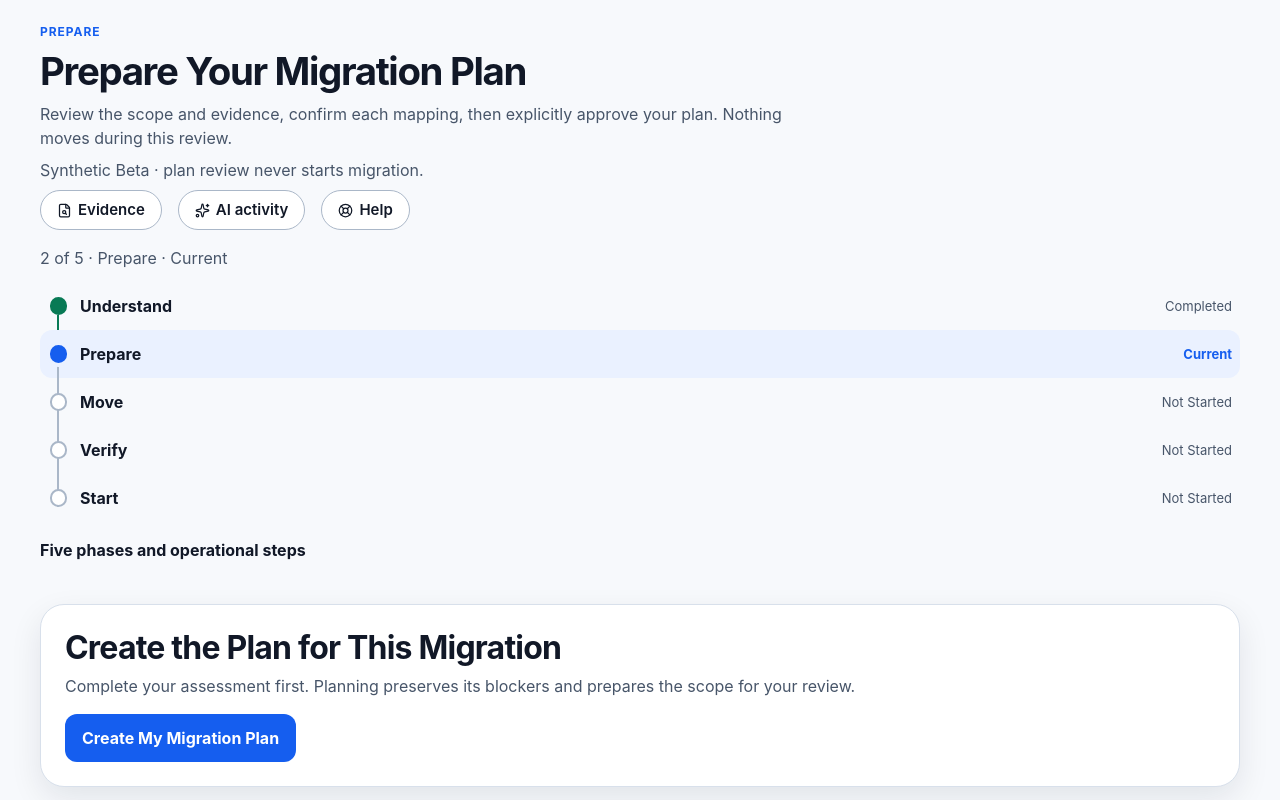
Test: failed deep links › does not write the selected migration when Plan creation fails
Click the button "Create My Migration Plan" at (181, 738), box [65,714,296,762]
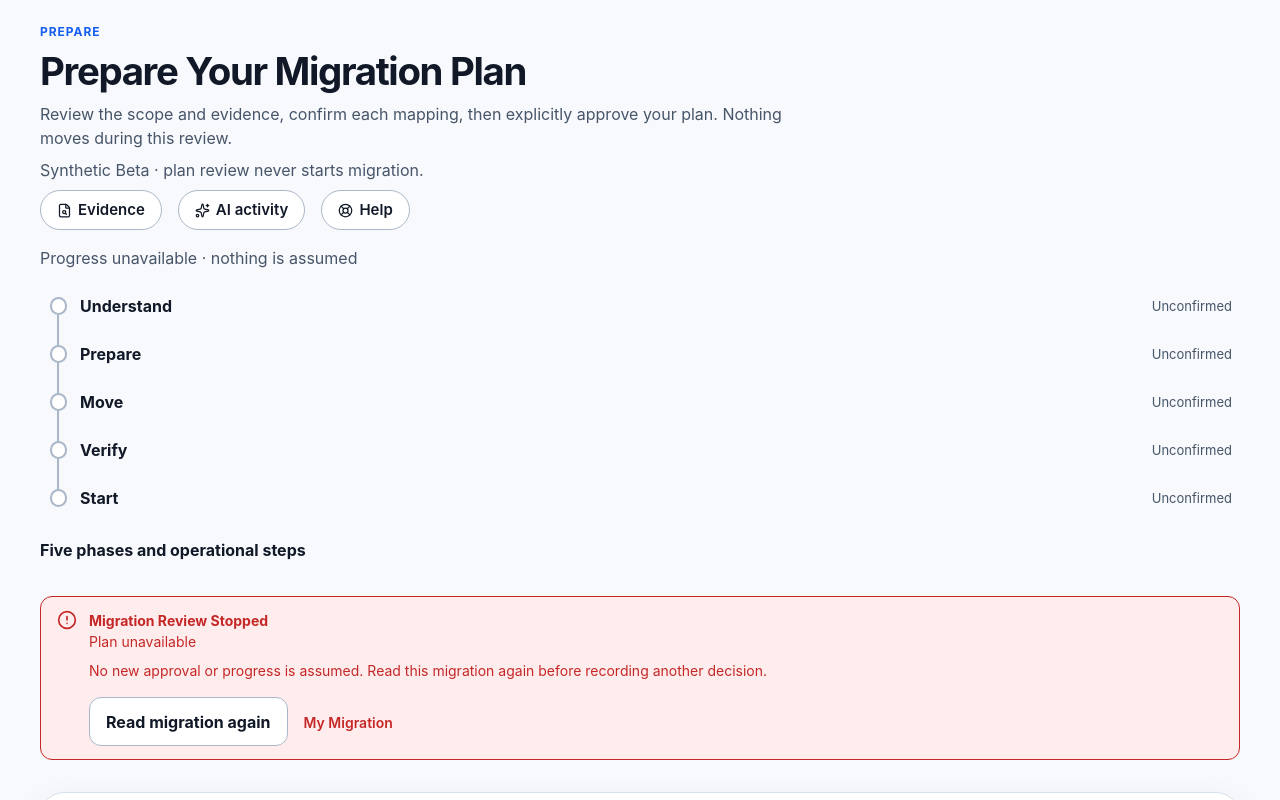
Expected: the message shows "Plan unavailable", [89,634,196,650]
